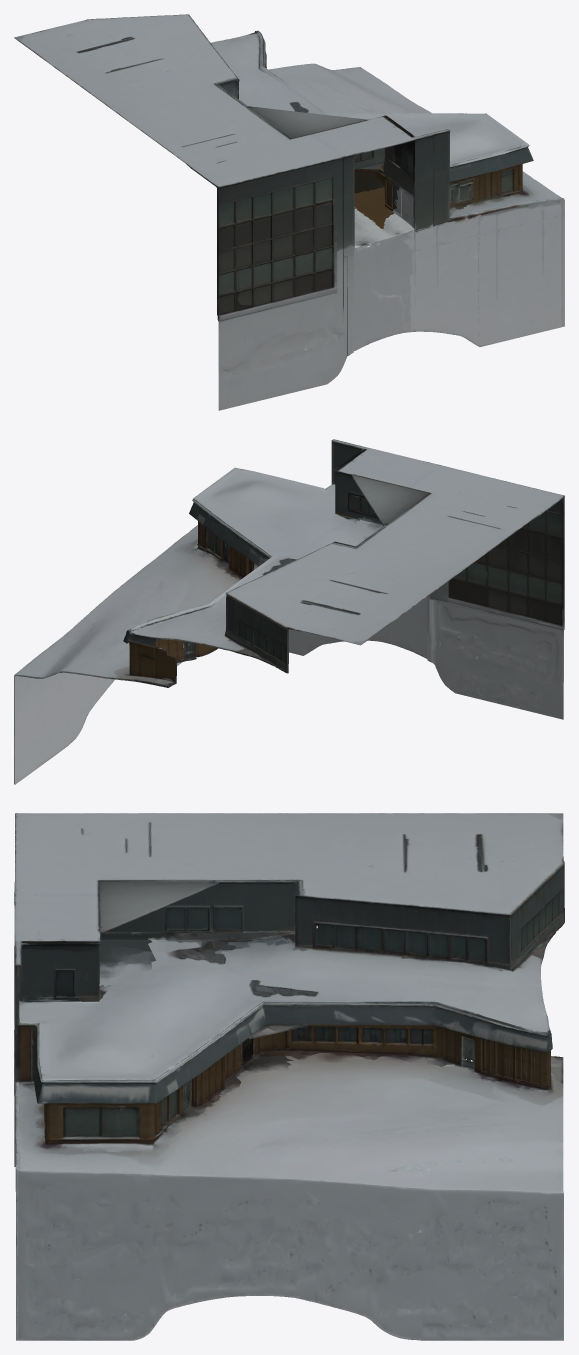
Rendered from construction-13.glb.
3 views of the same model, one above another, from view 1: azimuth 30°, elevation 25°; view 2: azimuth 150°, elevation 25°; view 3: azimuth 270°, elevation 25° (orthographic). The views are drawn at different scales.
Size of the model in its own units: 1.12 by 0.6947 by 1.15.
1 material, 1 textured.
